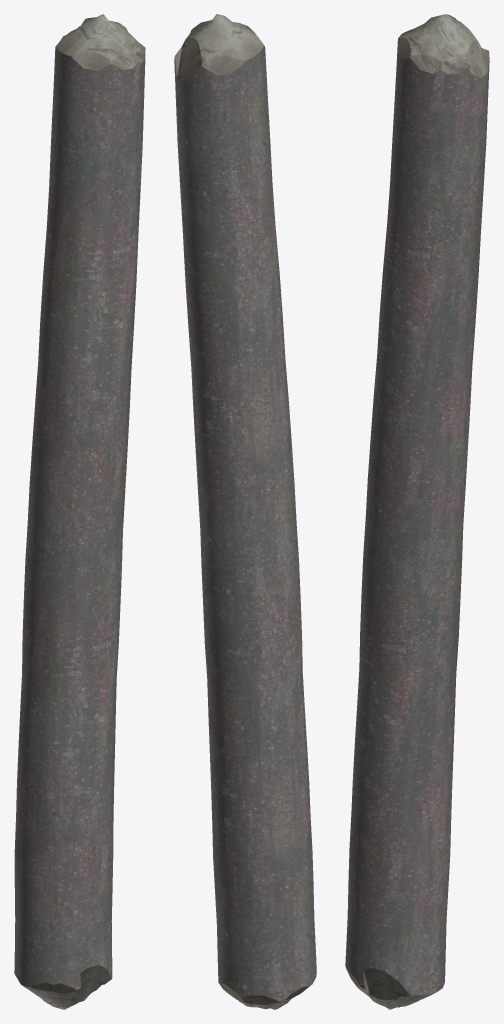
3 renders of one model, left to right at view 1: azimuth 30°, elevation 25°; view 2: azimuth 150°, elevation 25°; view 3: azimuth 330°, elevation 25°, orthographic. The views are drawn at different scales.
Parts seen in each view (by area): view 1: SM_GF_Ash_Tree_02_half_top_LOD0; view 2: SM_GF_Ash_Tree_02_half_top_LOD0; view 3: SM_GF_Ash_Tree_02_half_top_LOD0.
Boxes of the visible parts, x1,y1,x2,y2 form: SM_GF_Ash_Tree_02_half_top_LOD0: (14, 14, 145, 1009); SM_GF_Ash_Tree_02_half_top_LOD0: (174, 14, 316, 1009); SM_GF_Ash_Tree_02_half_top_LOD0: (345, 14, 489, 1009).
Size of the model in its own units: 0.5587 by 4.24 by 0.4064.
1 material, 1 textured.
